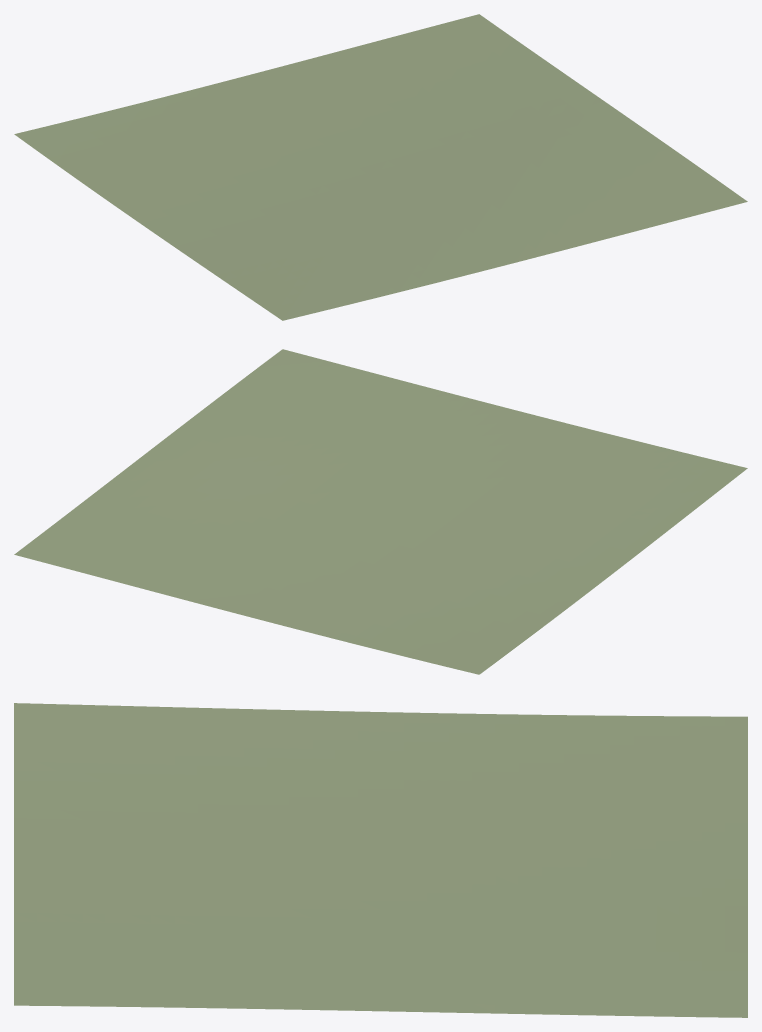
File: expanse-2-17.glb
3 renders of one model, top to bottom at view 1: azimuth 30°, elevation 25°; view 2: azimuth 150°, elevation 25°; view 3: azimuth 270°, elevation 25°, orthographic. The views are drawn at different scales.
Visible parts, largest first — view 1: expanse-2-17; view 2: expanse-2-17; view 3: expanse-2-17.
Boxes of the visible parts, x1=… form: expanse-2-17: x1=14, y1=14, x2=747, y2=320; expanse-2-17: x1=14, y1=349, x2=747, y2=674; expanse-2-17: x1=14, y1=703, x2=747, y2=1017.
Size of the model in its own units: 256 by 8.2 by 256.
